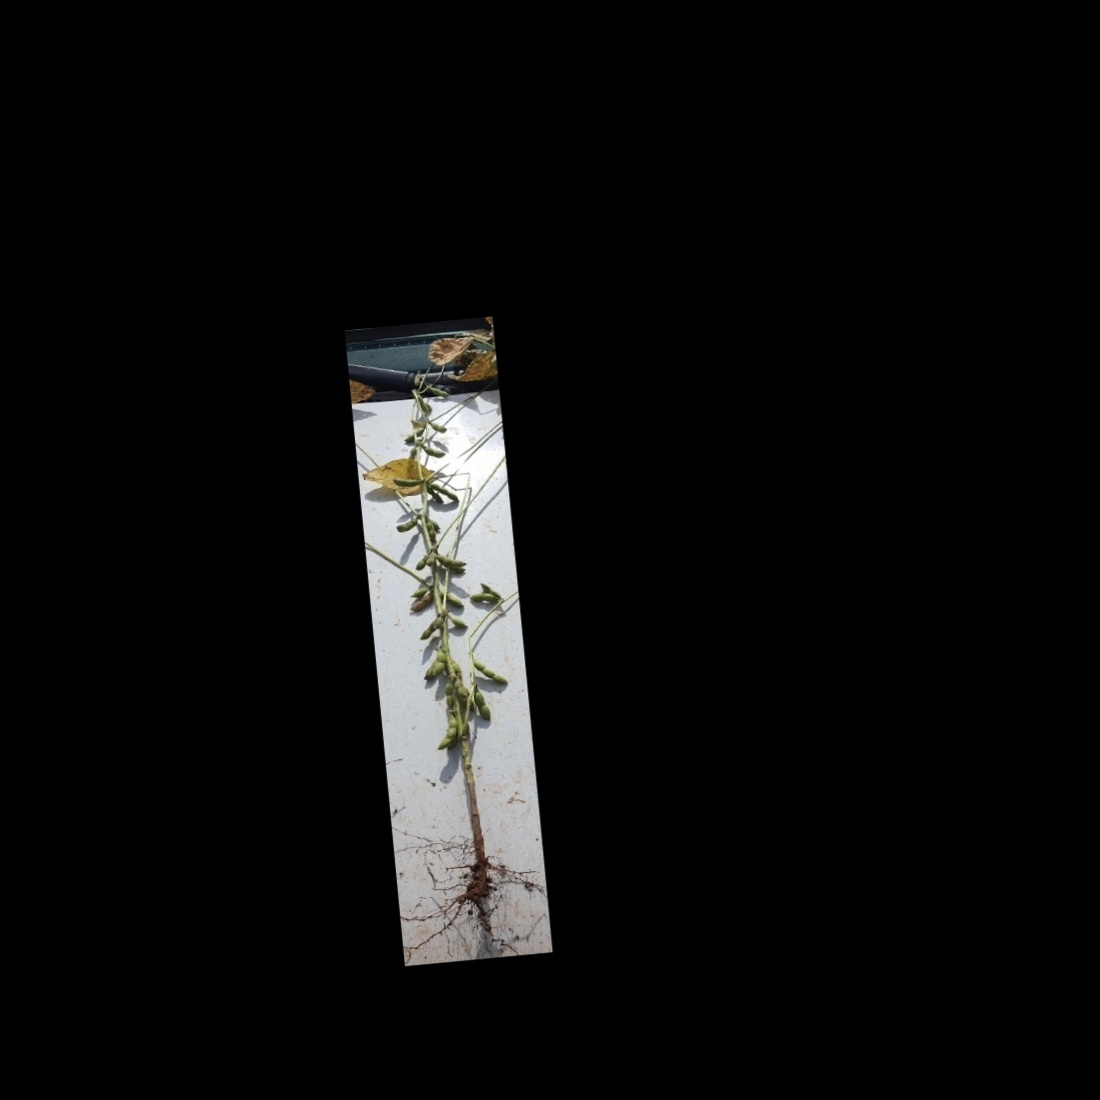pod: (472, 656, 509, 689), (432, 715, 461, 751), (472, 687, 493, 723), (433, 480, 460, 505), (436, 551, 467, 569), (421, 441, 448, 460), (467, 590, 498, 607), (444, 590, 465, 612), (393, 517, 420, 533), (391, 475, 424, 489), (442, 682, 455, 710), (447, 613, 468, 631), (428, 384, 450, 400), (425, 520, 438, 545), (429, 421, 448, 435), (409, 370, 423, 388), (417, 395, 429, 414)
soy: (359, 359, 535, 927)
